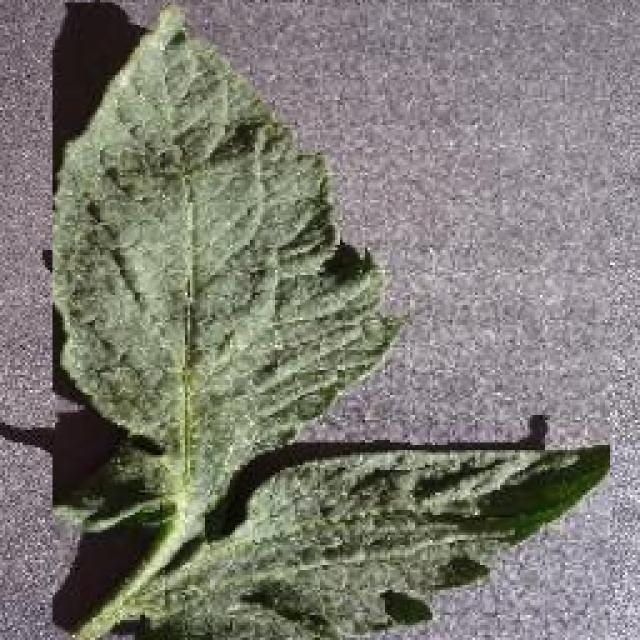Healthy: (52, 2, 610, 640)
